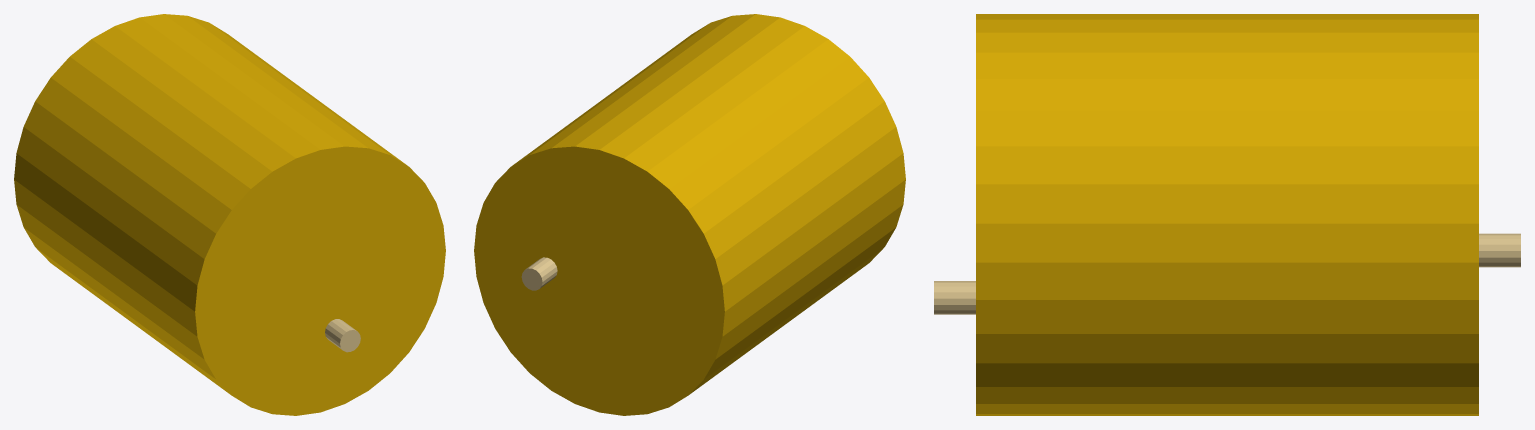
The model's file is mitochondria.glb.
3 renders of one model, left to right at view 1: azimuth 30°, elevation 25°; view 2: azimuth 150°, elevation 25°; view 3: azimuth 270°, elevation 25°, orthographic. The views are drawn at different scales.
Parts seen in each view (by area): view 1: world; view 2: world; view 3: world.
Part boxes in pixels (x1=…): world: x1=14, y1=14, x2=445, y2=415; world: x1=474, y1=14, x2=905, y2=415; world: x1=934, y1=14, x2=1520, y2=415.
Size of the model in its own units: 2.4 by 2.4 by 3.5.
